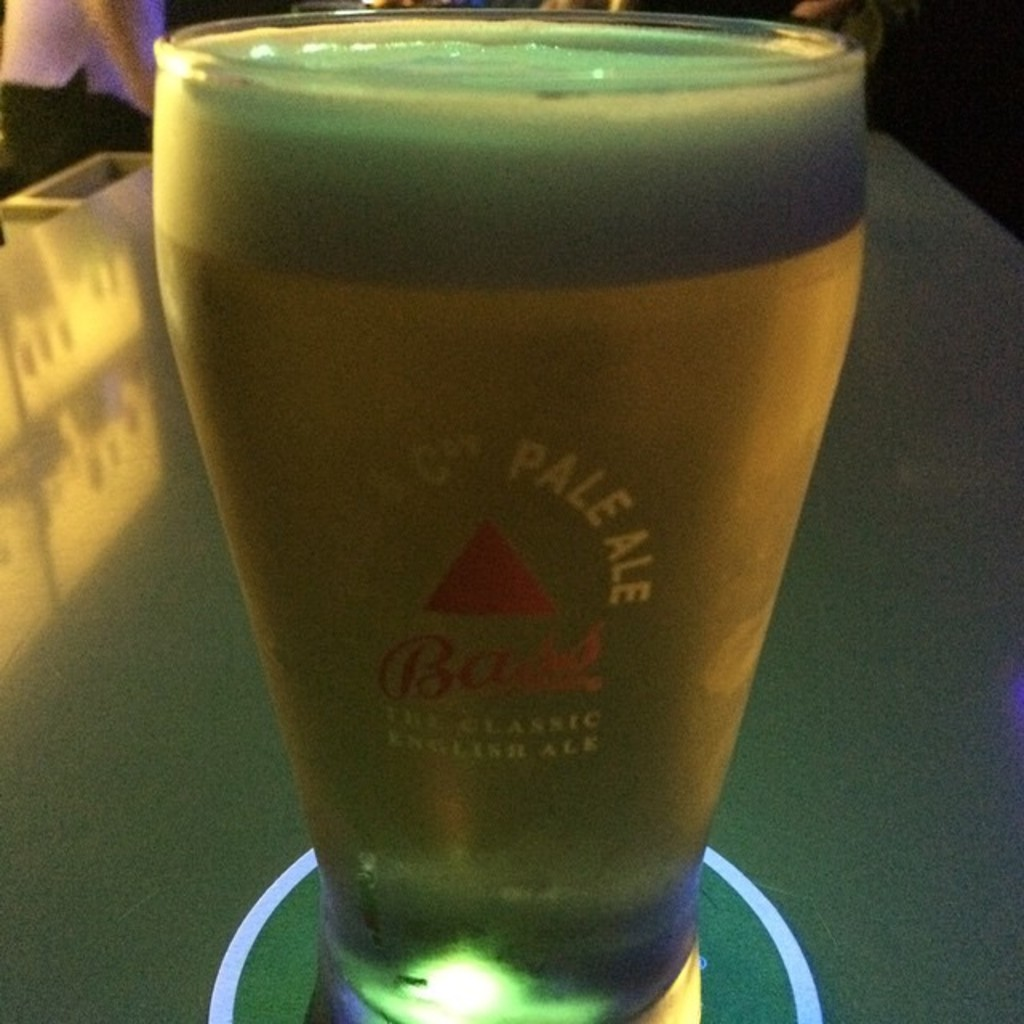Beer: (156, 19, 859, 998)
